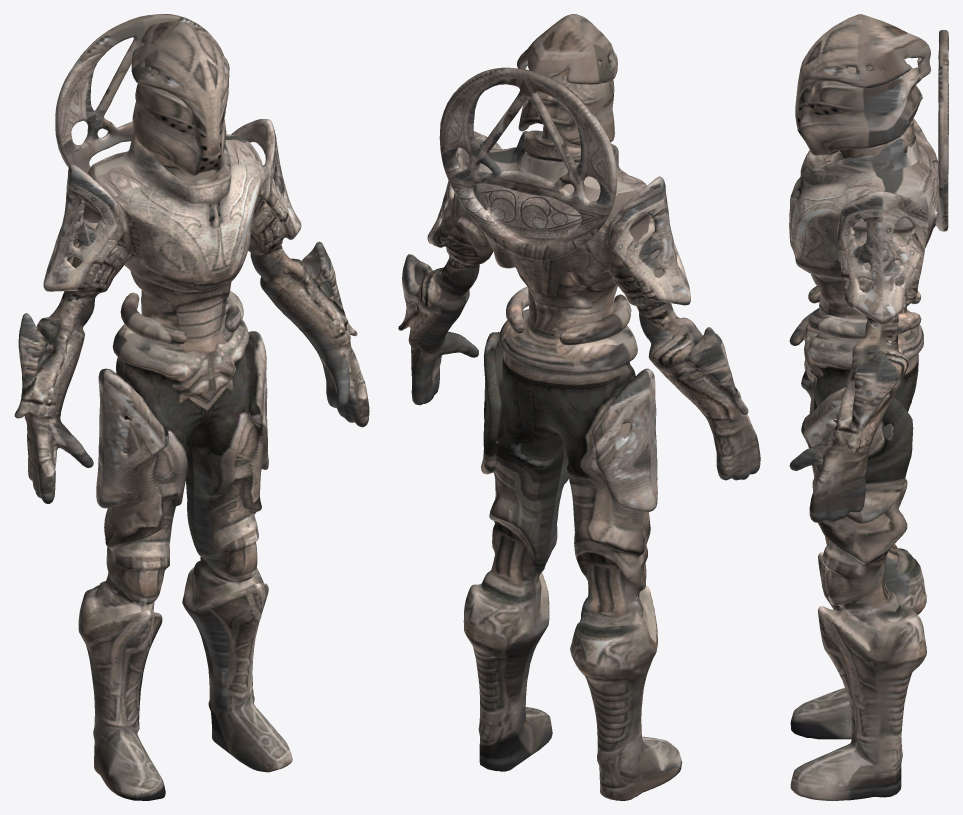
The model's file is saint-felms-overview-v1.glb.
The picture shows the model from 3 angles, left to right: view 1: azimuth 30°, elevation 25°; view 2: azimuth 150°, elevation 25°; view 3: azimuth 270°, elevation 25°; orthographic projection. The views are drawn at different scales.
Parts seen in each view (by area): view 1: saint-felms; view 2: saint-felms; view 3: saint-felms.
Part boxes in pixels (box(x1,y1,x2,y2)): saint-felms: box(14, 14, 369, 800); saint-felms: box(398, 14, 760, 800); saint-felms: box(789, 14, 948, 800).
Size of the model in its own units: 0.9635 by 2 by 0.3868.
1 material, 1 textured.
